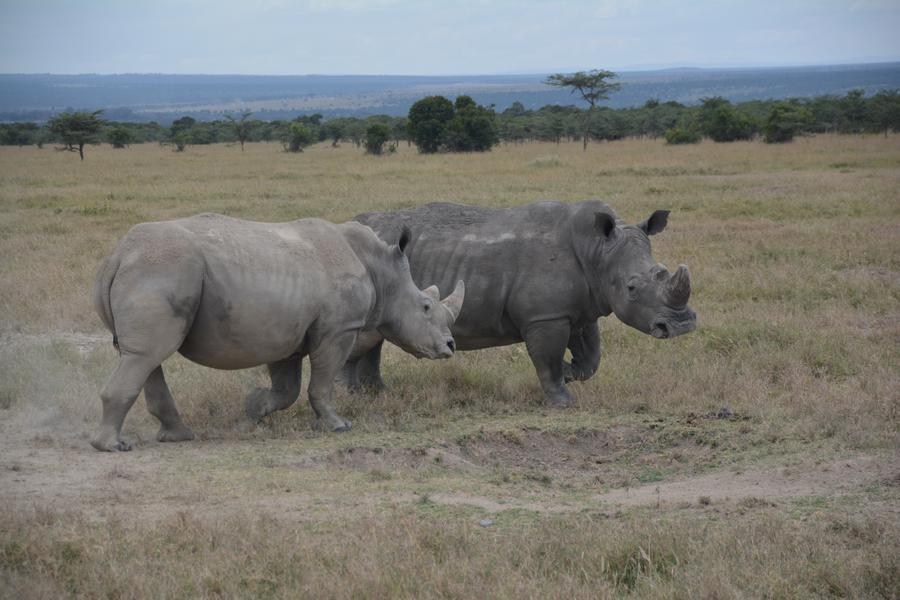rhino: (106, 210, 422, 392), (436, 206, 688, 371)
